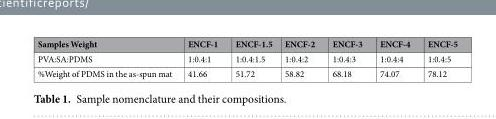table: (36, 37, 457, 79)
table column: (36, 37, 179, 79), (225, 37, 277, 79), (322, 37, 370, 79), (370, 37, 418, 79), (179, 37, 225, 79), (277, 37, 322, 79), (418, 37, 457, 79)
table column header: (36, 37, 457, 50)
table row: (36, 50, 457, 65), (36, 65, 457, 79), (36, 37, 457, 50)
